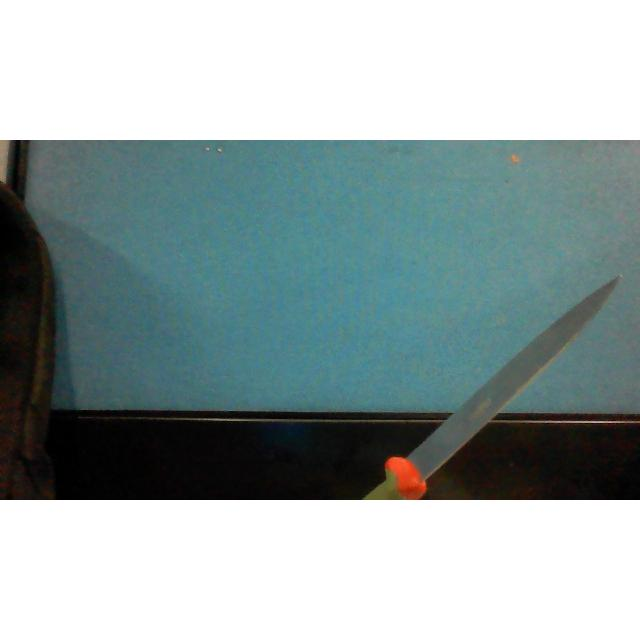Knife: (365, 276, 622, 500)
